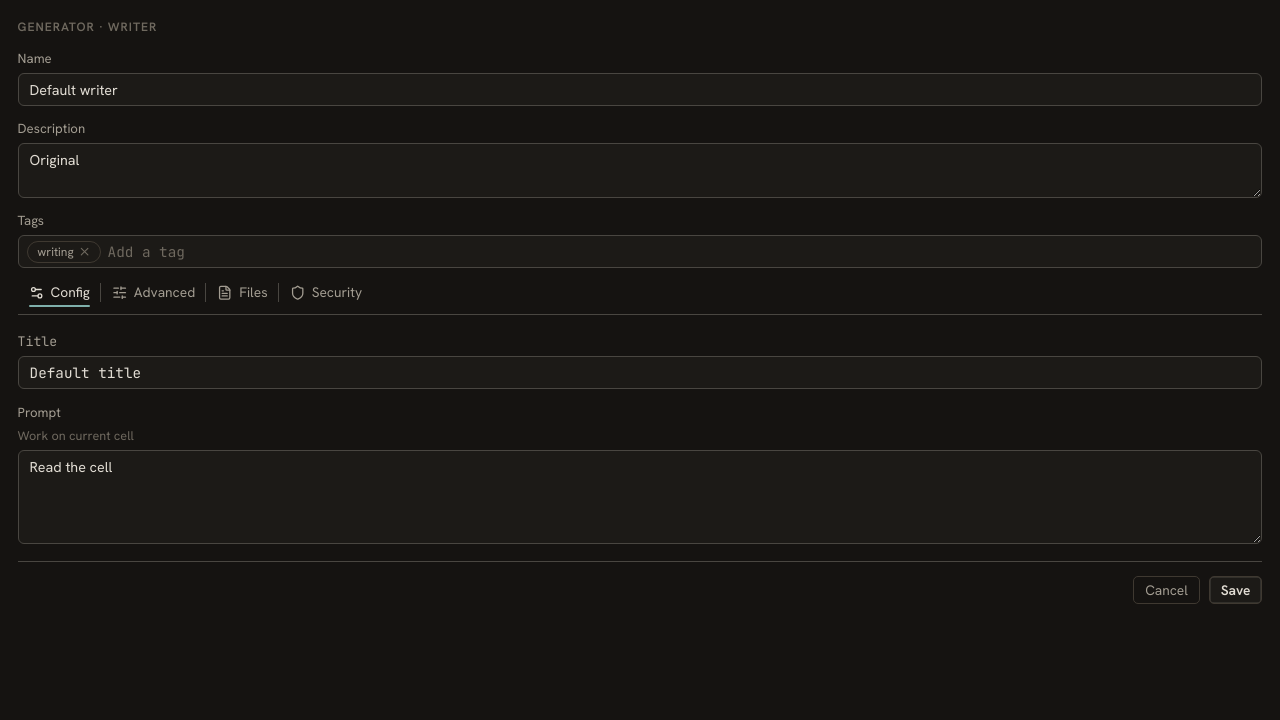
Scenario: Shared RunnerEditor › splits a pasted comma list into separate tags
Type "a,b,c" into the field named "Tags".
click(680, 252); type("a,b,c")  # box [108, 241, 1253, 262]
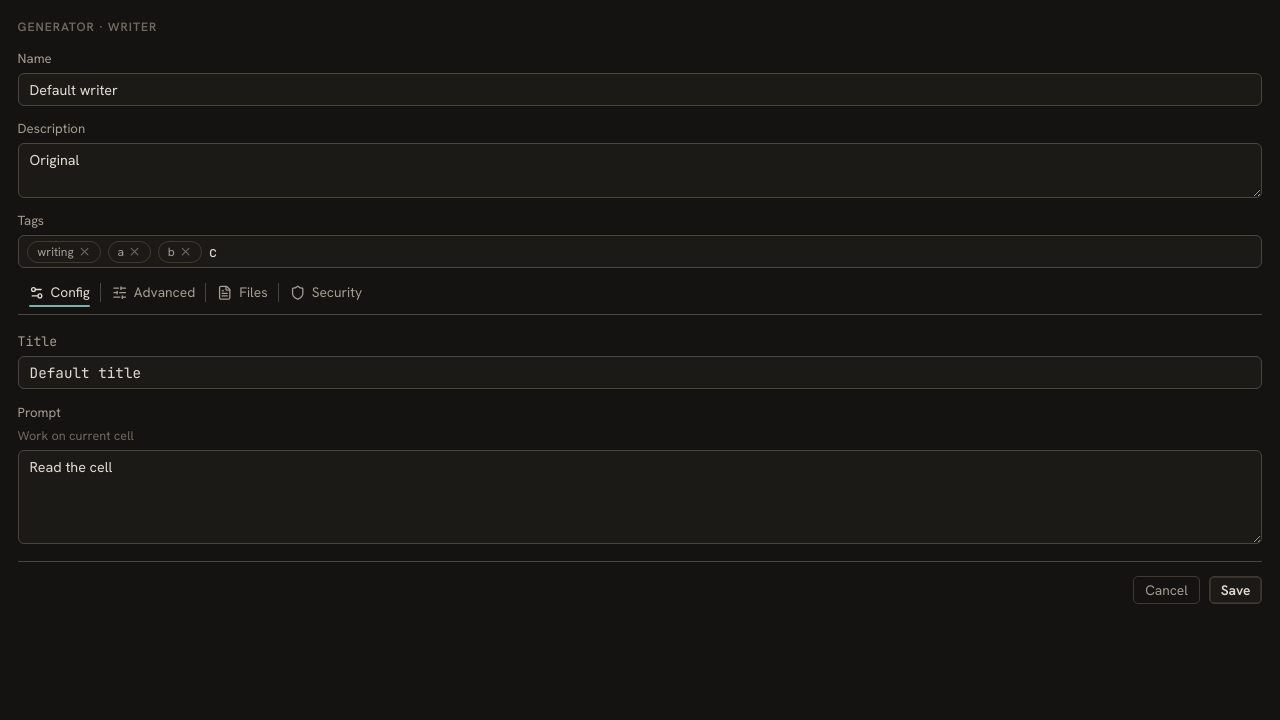
Check: the button named "Remove tag a" is shown, box [128, 245, 142, 258]
Check: the button named "Remove tag b" is shown, box [179, 245, 192, 258]
Check: the field named "Tags" holds "c"
Replace the text in the field named "Tags" with "foo," at (731, 252), box [209, 241, 1253, 262]
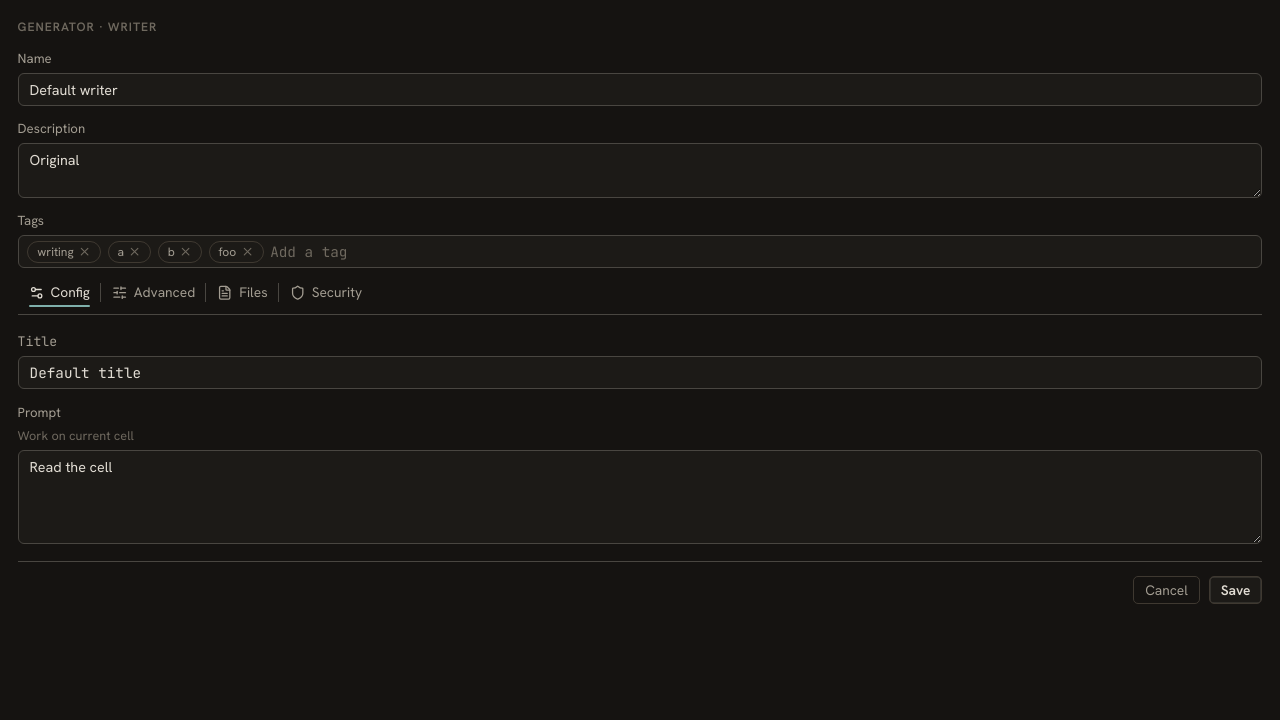
Check: the button named "Remove tag foo" is shown, box [241, 245, 254, 258]
Check: the field named "Tags" is empty, box [270, 241, 1253, 262]
